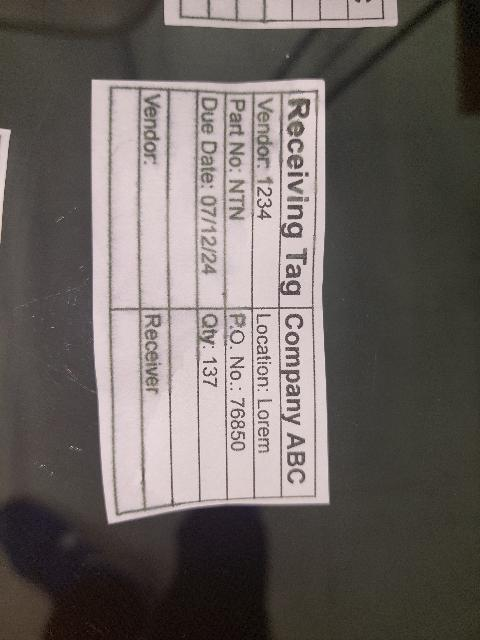PO no: (222, 306, 255, 501)
part no: (224, 91, 256, 309)
qty: (198, 307, 228, 502)
tags: (89, 79, 330, 528)
